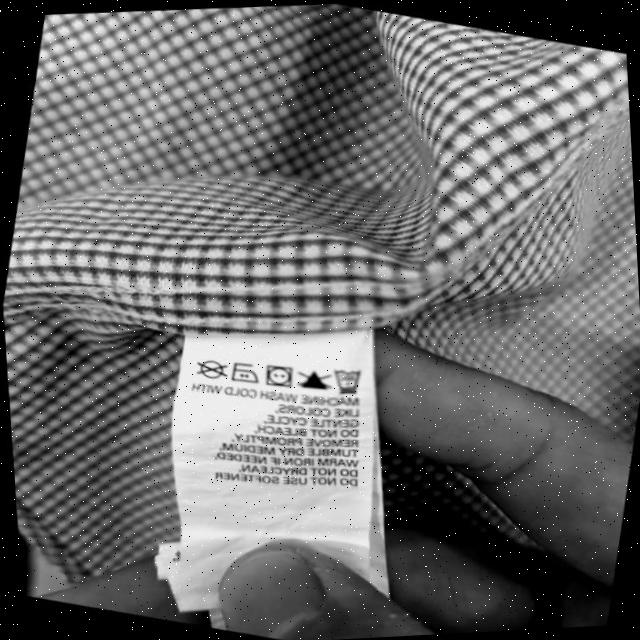ER_iron_medium_temp: (232, 359, 261, 386)
ER_no_bleach: (298, 366, 331, 394)
ER_no_dry_clean: (197, 358, 226, 382)
ER_tumble_dry_normal_heat: (264, 360, 295, 390)
